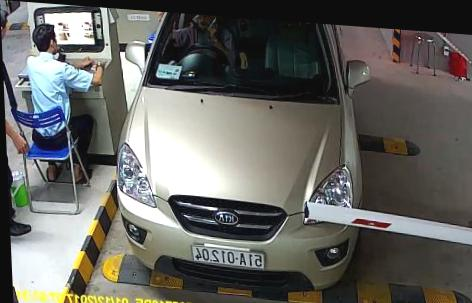License_Plate: (187, 242, 269, 270)
